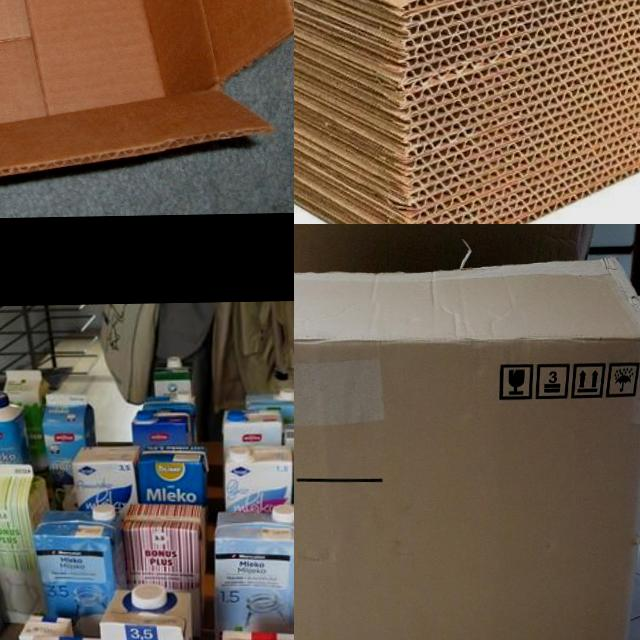caixinha: (213, 504, 294, 629), (34, 509, 124, 618), (0, 464, 52, 627), (119, 502, 203, 590), (97, 588, 197, 640), (2, 368, 52, 470), (222, 443, 294, 511), (39, 393, 97, 474), (70, 444, 140, 510), (134, 444, 210, 504), (131, 406, 193, 446), (221, 408, 283, 447), (244, 392, 294, 423), (152, 364, 192, 396)
papelão: (294, 224, 640, 640), (294, 0, 640, 224), (0, 0, 294, 207)
tampa plástica: (132, 582, 166, 608), (270, 504, 294, 522), (228, 447, 252, 462), (278, 387, 294, 399), (228, 410, 245, 421), (135, 410, 153, 420), (0, 392, 10, 408), (166, 356, 180, 367)
